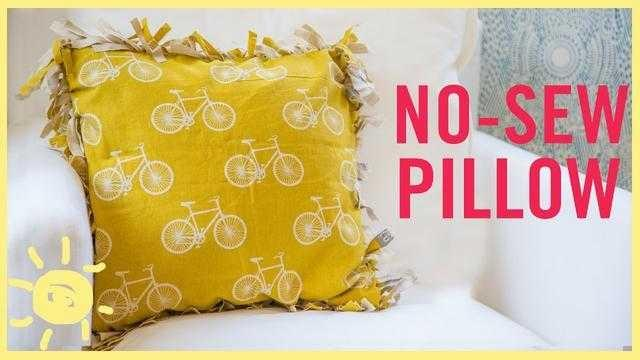pillow: (45, 20, 389, 332)
